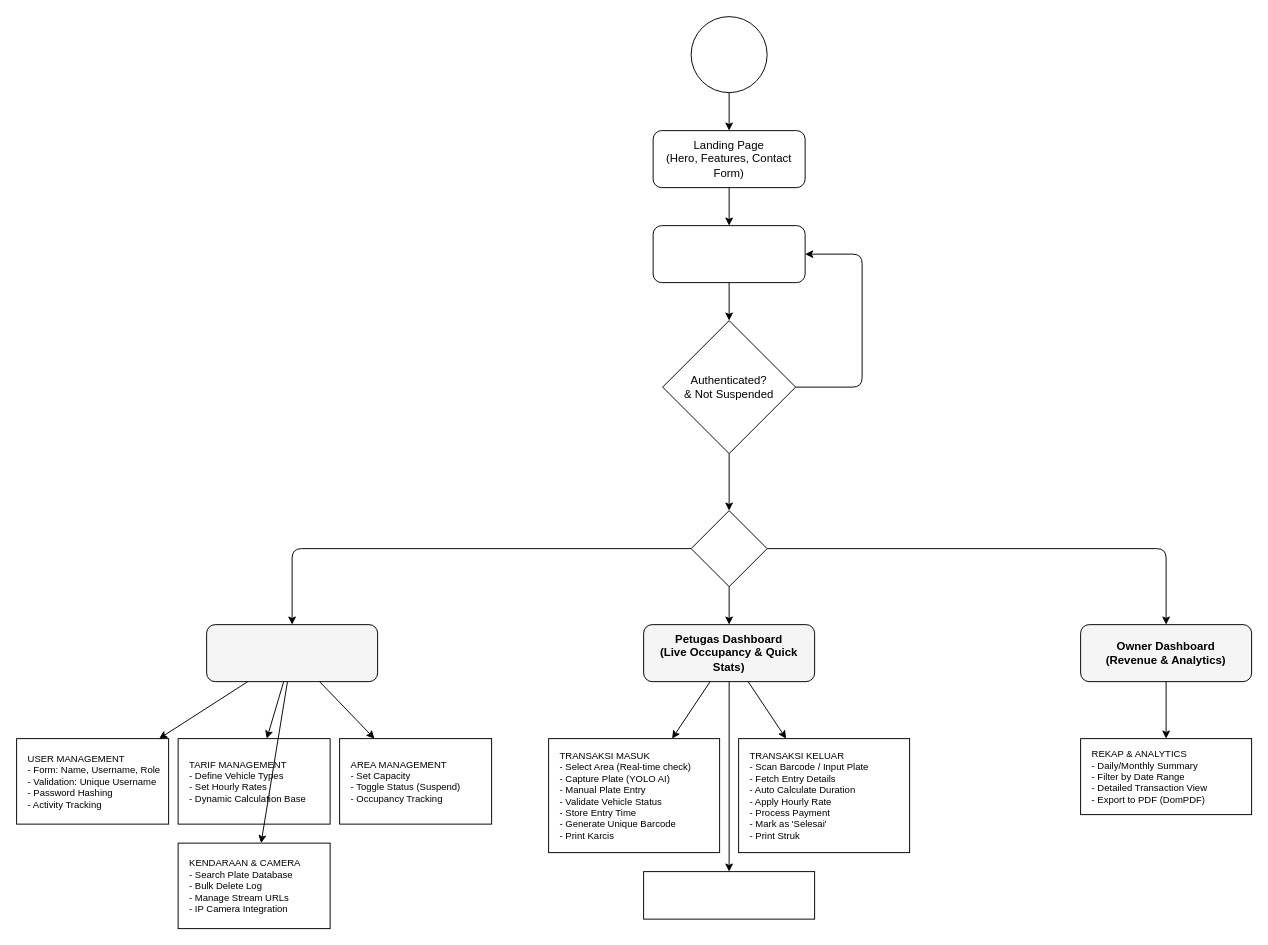
Some shapes in this 1268 by 945 pixel diagram are drawn without their labels. Each missing label, with the box of its shape:
Admin Dashboard (System KPI & Activity Log): (206, 624, 378, 682)
GUEST: (690, 16, 767, 93)
LIVE MONITORING - View Active IP Streams - Real-time Occupancy Grid: (643, 871, 815, 919)
Login Page (Username & Password): (652, 225, 805, 283)
Role?: (690, 510, 767, 587)
